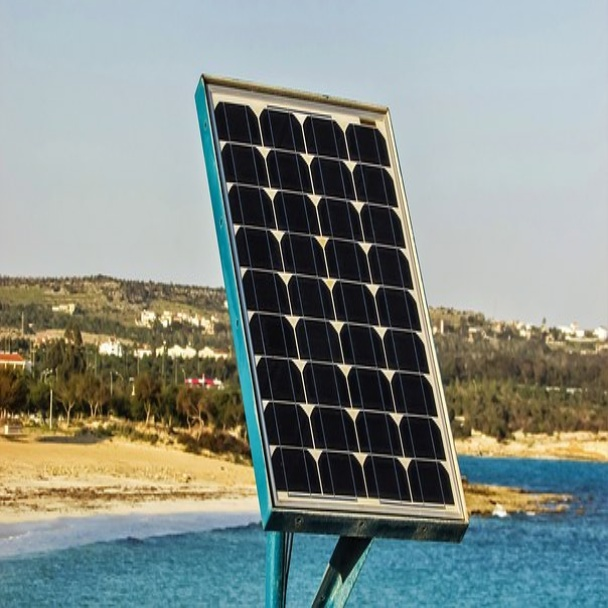solarpanels: (186, 76, 483, 550)
